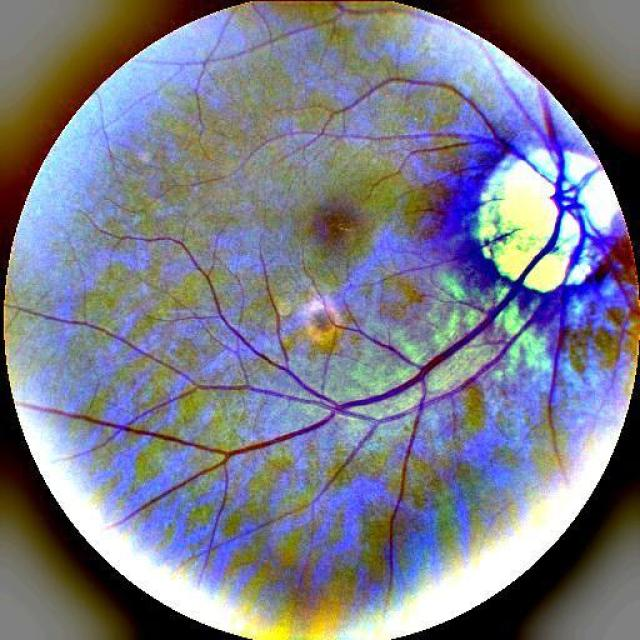Optic Disk: (475, 150, 625, 290), (471, 155, 581, 291)
